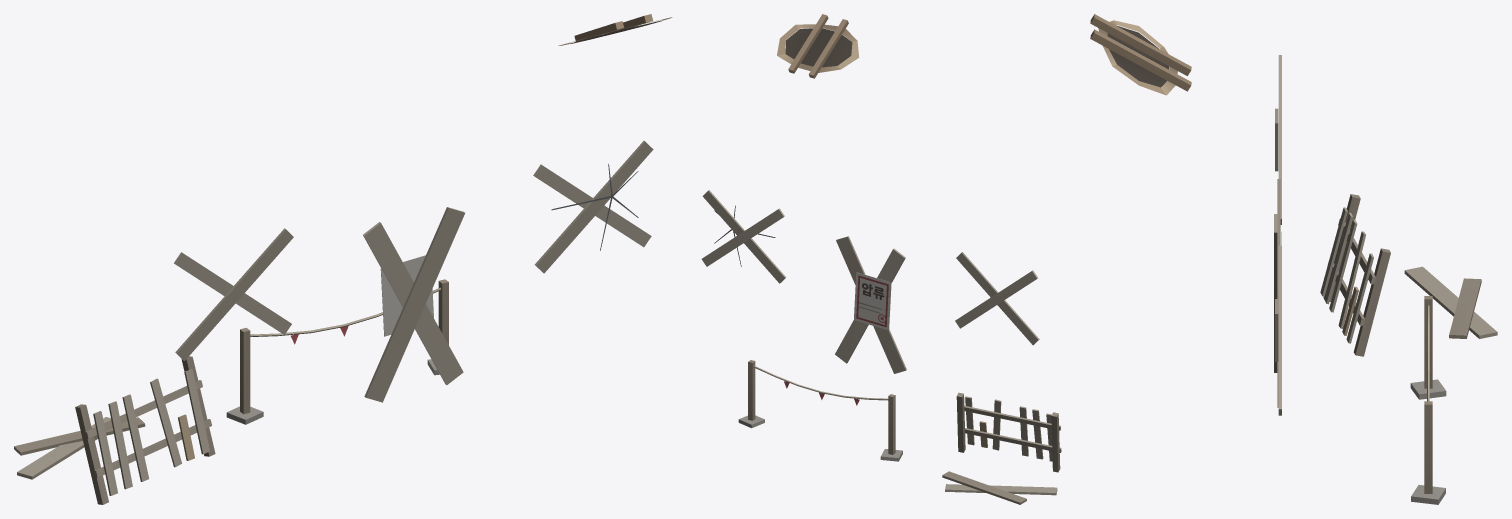
File: house_seized_house_low.glb
The picture shows the model from 3 angles, left to right: view 1: azimuth 30°, elevation 25°; view 2: azimuth 150°, elevation 25°; view 3: azimuth 270°, elevation 25°; orthographic projection. The views are drawn at different scales.
Size of the model in its own units: 6.01 by 4.67 by 3.43.
